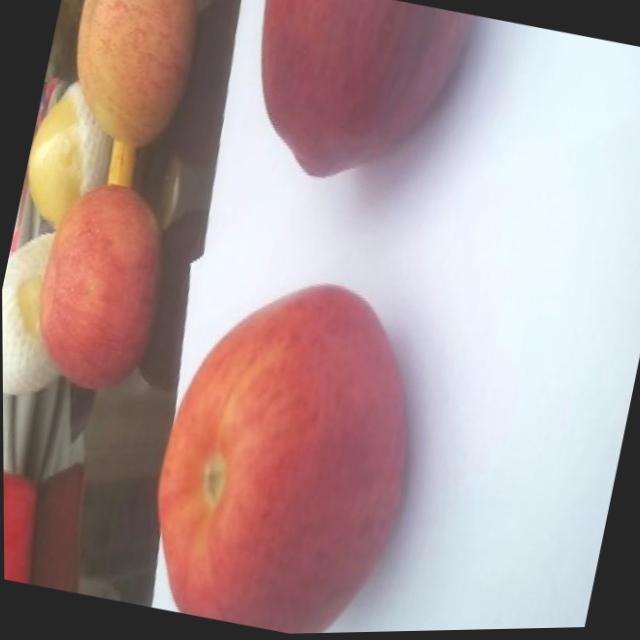Apple: (125, 247, 454, 638), (223, 0, 480, 212), (17, 169, 180, 403), (53, 0, 216, 158)
